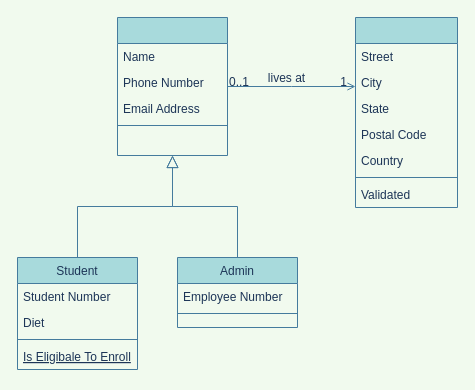
Image size: 475x390. Some labels were removed from this diagram. The shapes that lost their labels are listed below. From the top down, each one's box as (x1, y1, x2, y2) in pixels, then its label:
(116, 16, 228, 156): Person
(354, 16, 458, 208): Address
